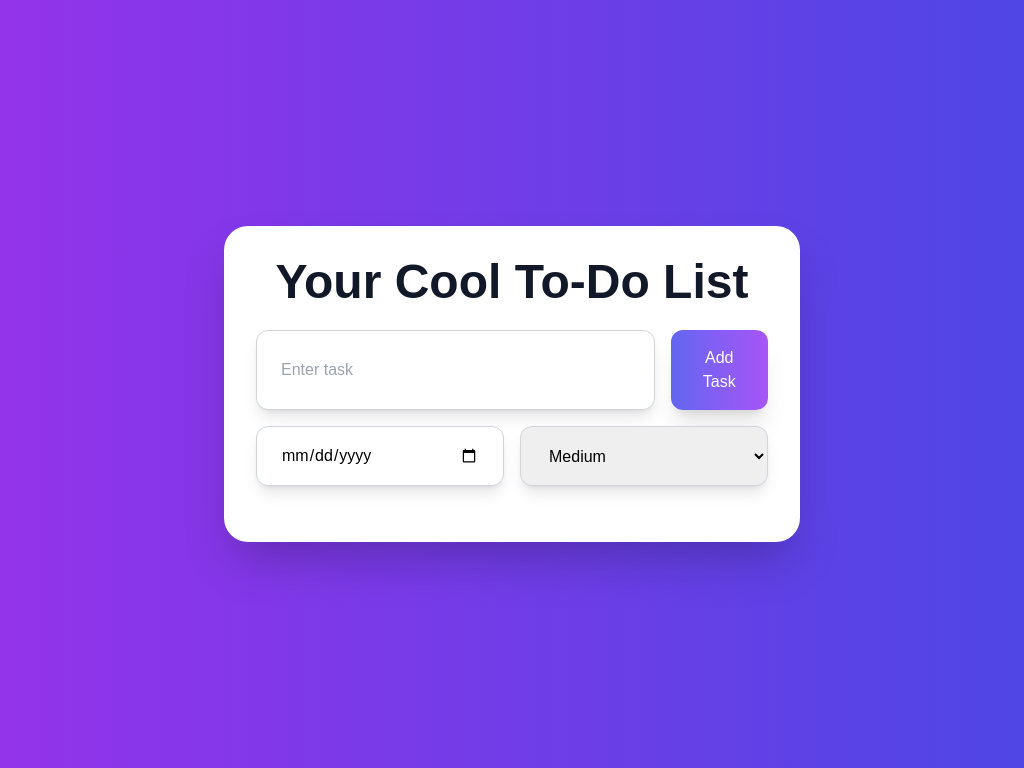
Test case: To-Do App › sets a due date for a task
The width and height of the screenshot is (1024, 768).
In the field with placeholder "Enter task": (456, 370) [256,330,655,410], type "Task with Date"
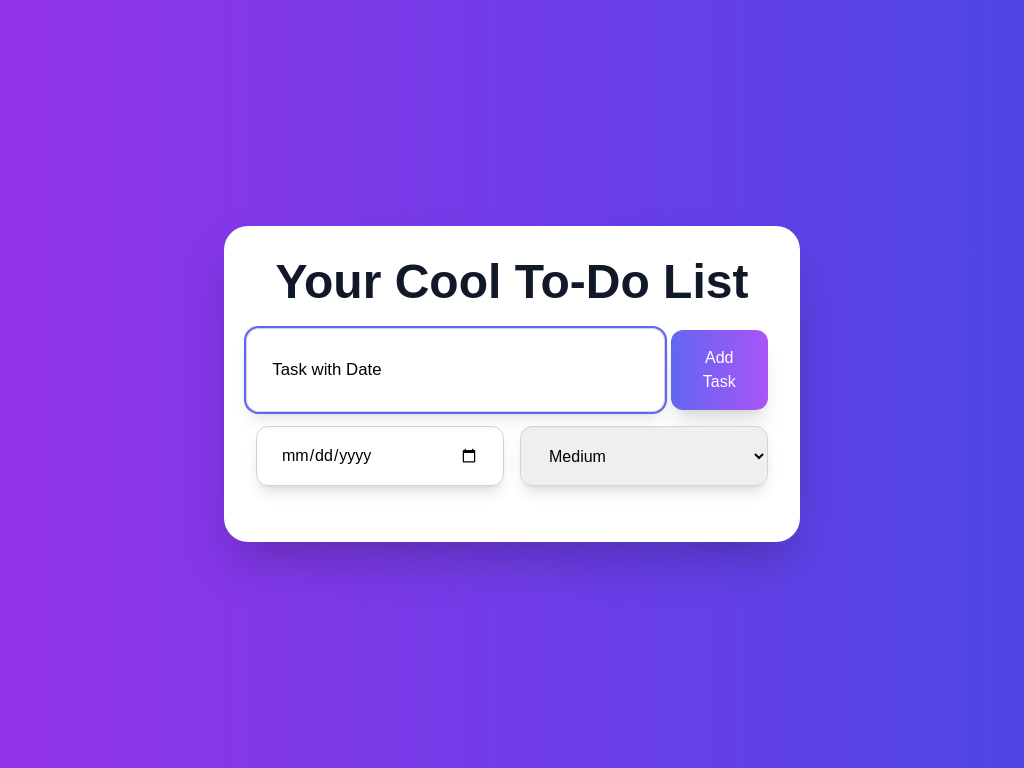
In the date field: (380, 456) [256,426,504,486], type "2025-01-22"
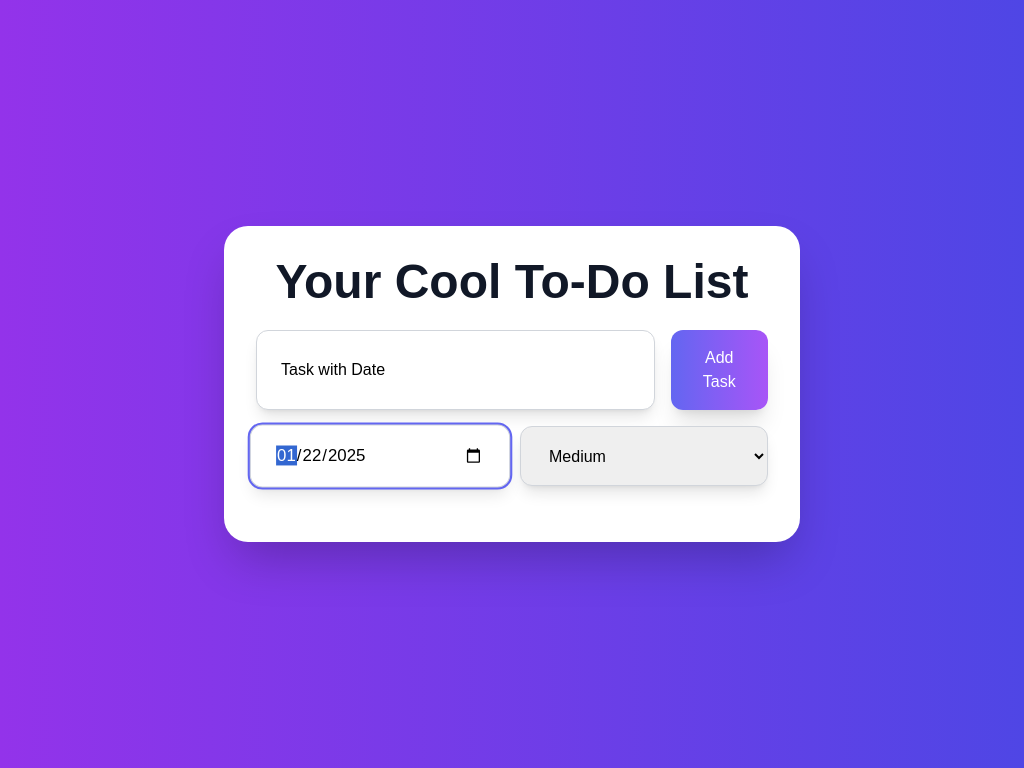
Click the button "Add Task": (720, 370) [671,330,768,410]
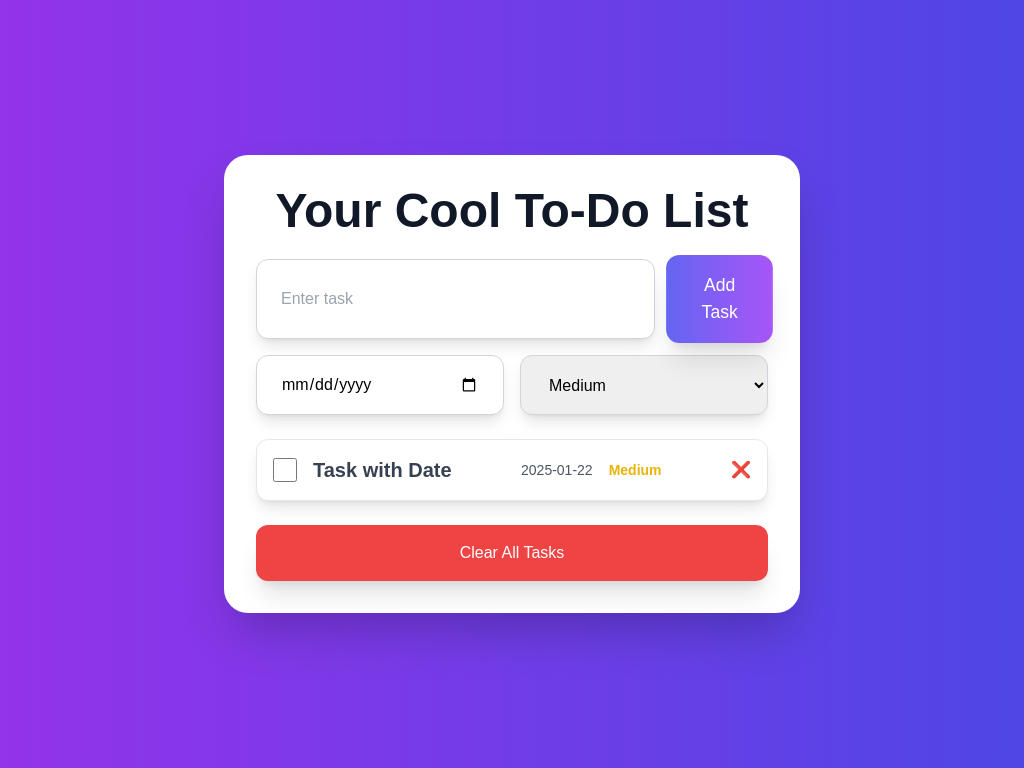
Result: the text "2025-01-22" is shown at [521,460,593,480]
